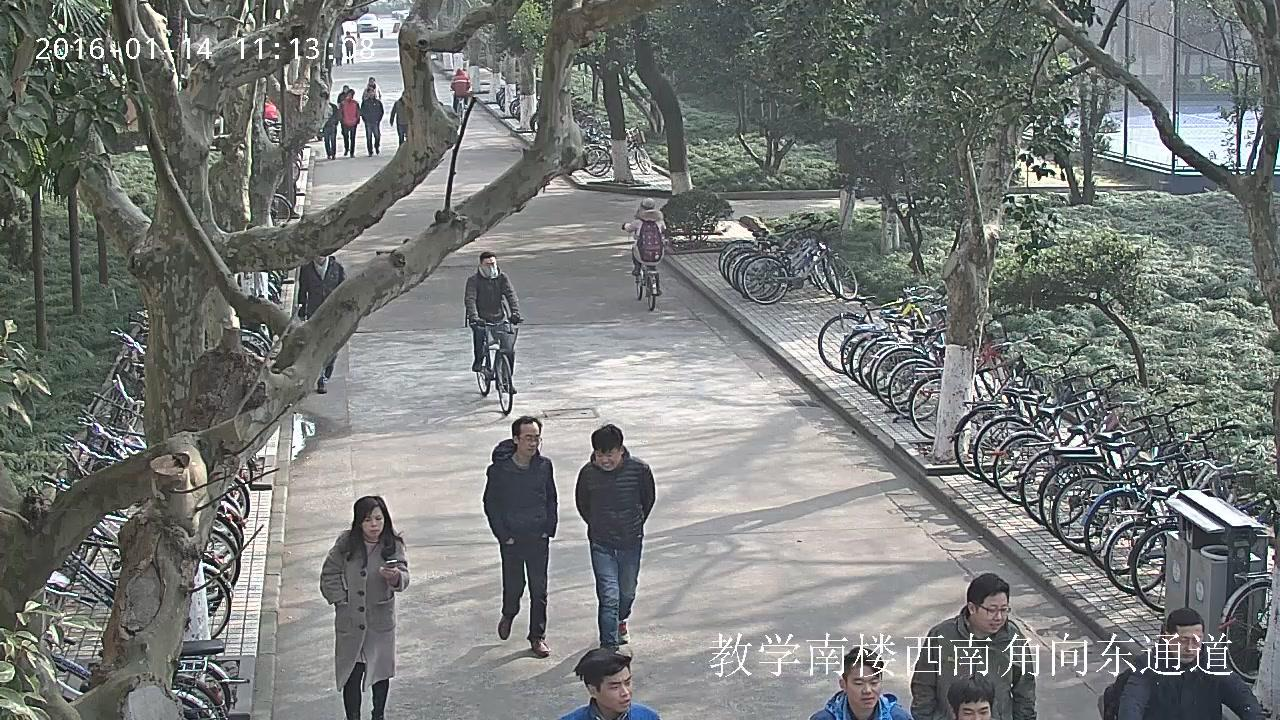person: (1099, 605, 1280, 720), (319, 495, 408, 719), (1103, 606, 1272, 720), (910, 572, 1036, 720), (482, 416, 558, 657), (575, 424, 654, 655), (464, 251, 523, 414), (464, 252, 521, 394), (806, 647, 914, 720), (557, 648, 660, 720), (297, 255, 345, 393), (622, 198, 667, 310), (624, 198, 667, 275), (360, 87, 383, 157), (340, 89, 360, 158), (390, 91, 410, 147), (450, 68, 470, 124), (322, 102, 338, 159), (451, 68, 470, 113), (337, 85, 350, 135), (361, 76, 381, 101), (343, 31, 355, 64)
